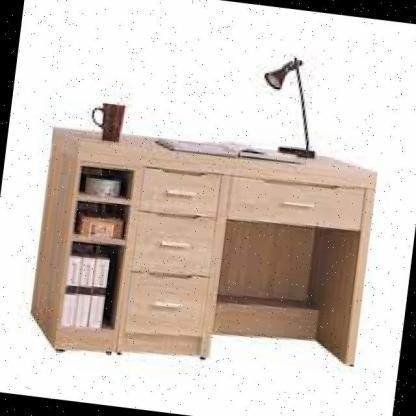Table: (22, 72, 395, 395)
